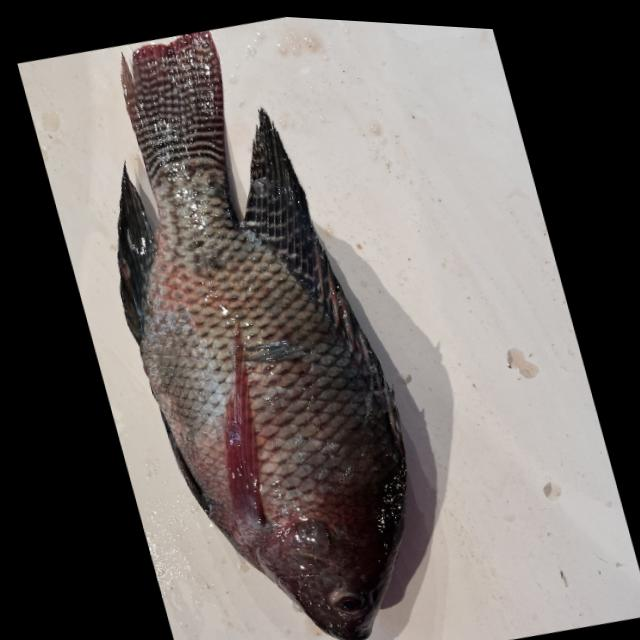Tilapia: (50, 3, 457, 640)
